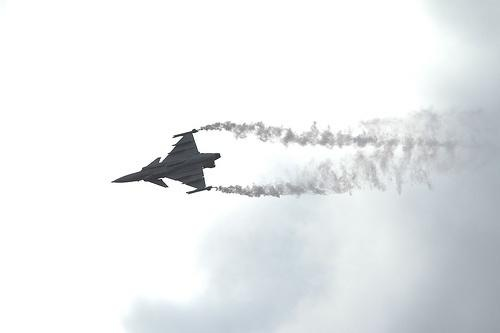aeroplane: (110, 128, 222, 195)
